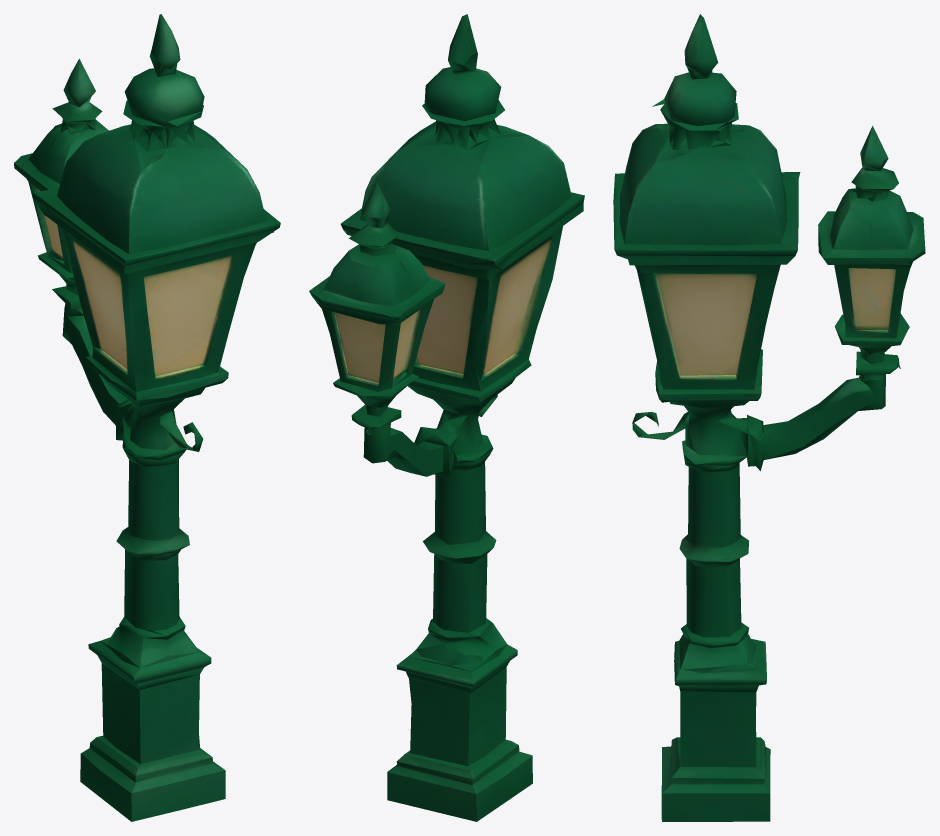
File: streetLampVictorian.glb
3 renders of one model, left to right at view 1: azimuth 30°, elevation 25°; view 2: azimuth 150°, elevation 25°; view 3: azimuth 270°, elevation 25°, orthographic.
Parts seen in each view (by area): view 1: model; view 2: model; view 3: model.
Boxes of the visible parts, x1,y1,x2,y2 form: model: [14, 14, 280, 821]; model: [309, 14, 584, 821]; model: [613, 14, 925, 821].
Size of the model in its own units: 0.4007 by 1.9 by 0.6856.
1 material, 1 textured.
